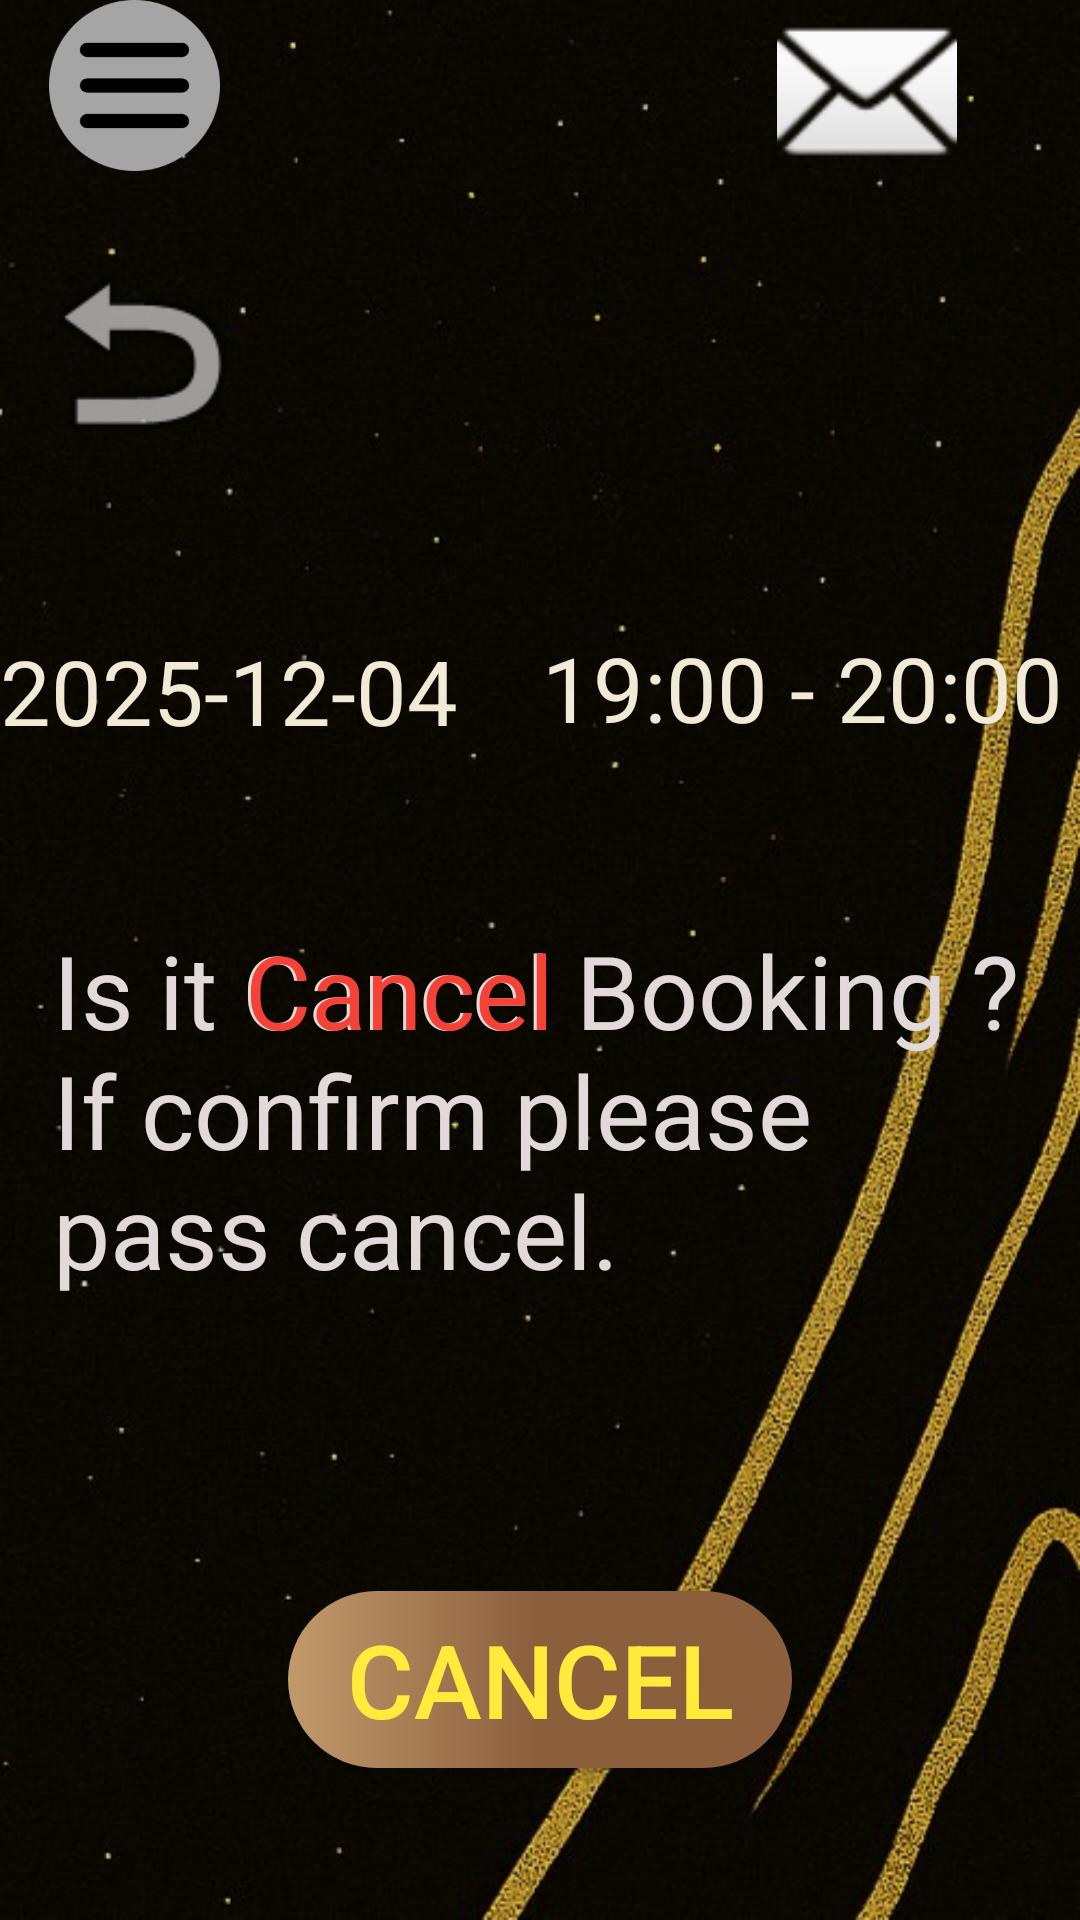

Locate icon controls on the screen. Image size 1080x1920, boxes as (x1, y1, x2, y2).
burger menu: (49, 0, 220, 171)
email: (734, 27, 974, 156)
revert: (64, 248, 246, 425)
